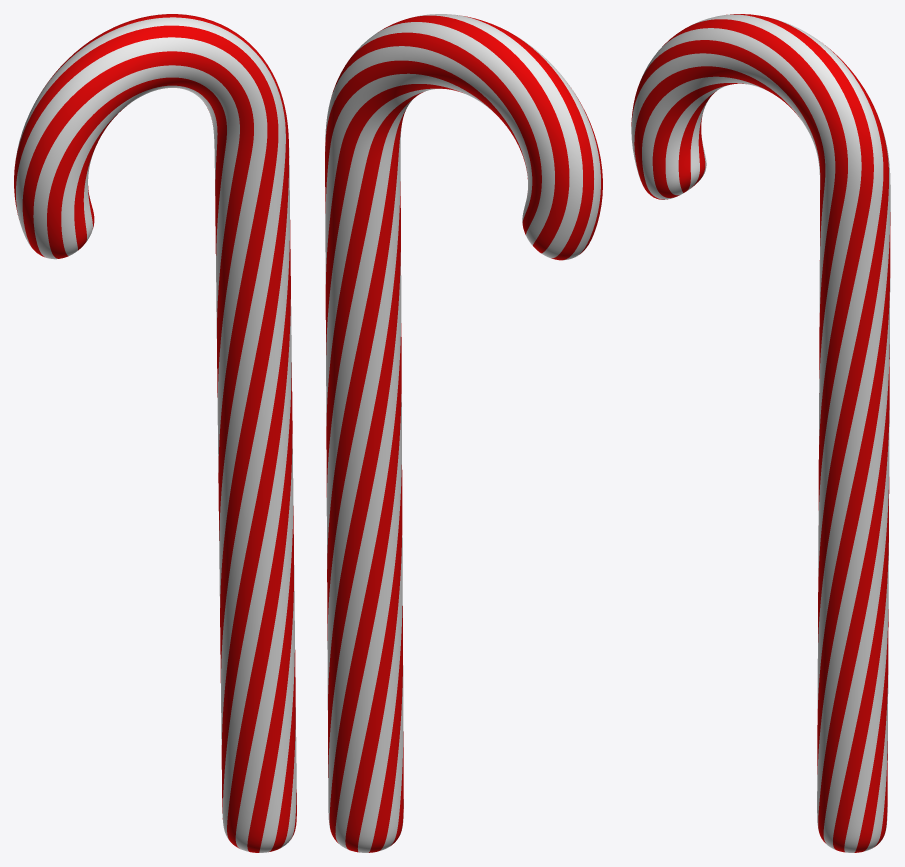
Rendered from CandySword.fbx.
3 renders of one model, left to right at view 1: azimuth 30°, elevation 25°; view 2: azimuth 150°, elevation 25°; view 3: azimuth 330°, elevation 25°, orthographic. The views are drawn at different scales.
Parts seen in each view (by area): view 1: Cylinder; view 2: Cylinder; view 3: Cylinder.
Boxes of the visible parts, x1,y1,x2,y2 form: Cylinder: [14, 14, 296, 852]; Cylinder: [325, 14, 602, 852]; Cylinder: [631, 14, 890, 852].
Size of the model in its own units: 801 by 2428 by 228.
